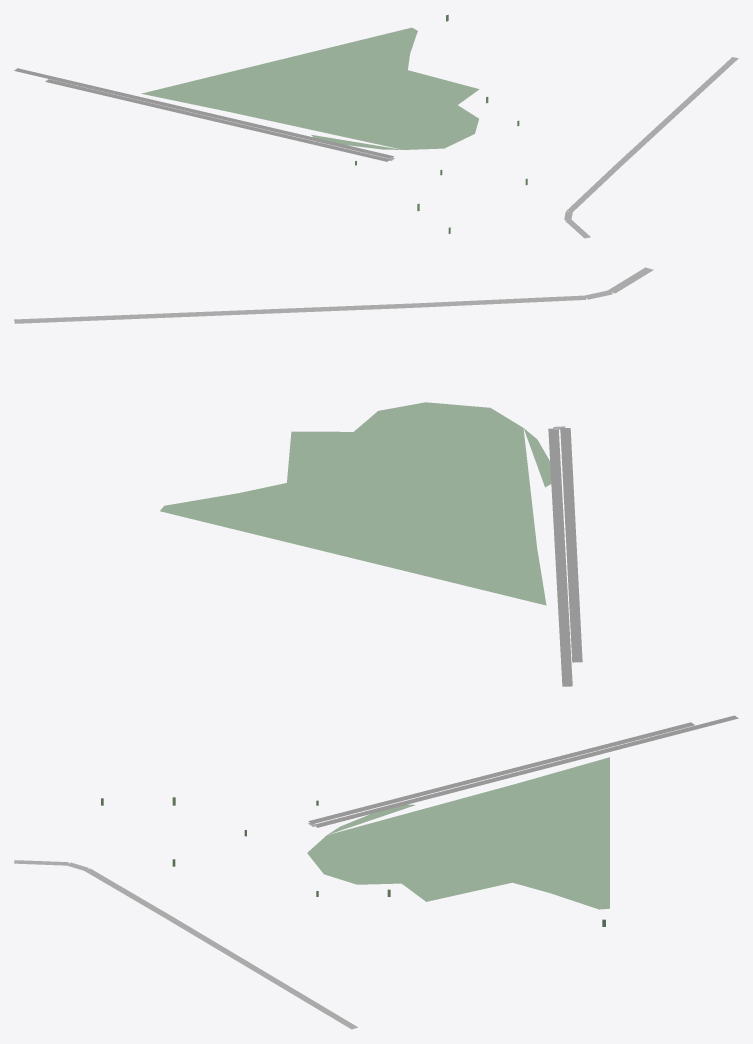
The picture shows the model from 3 angles, top to bottom: view 1: azimuth 30°, elevation 25°; view 2: azimuth 150°, elevation 25°; view 3: azimuth 270°, elevation 25°; orthographic projection. The views are drawn at different scales.
Size of the model in its own units: 619 by 8.69 by 607.
